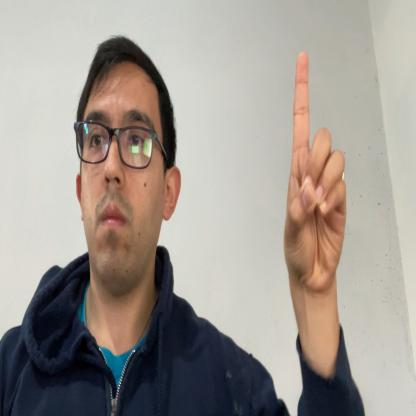D: (284, 51, 348, 301)
